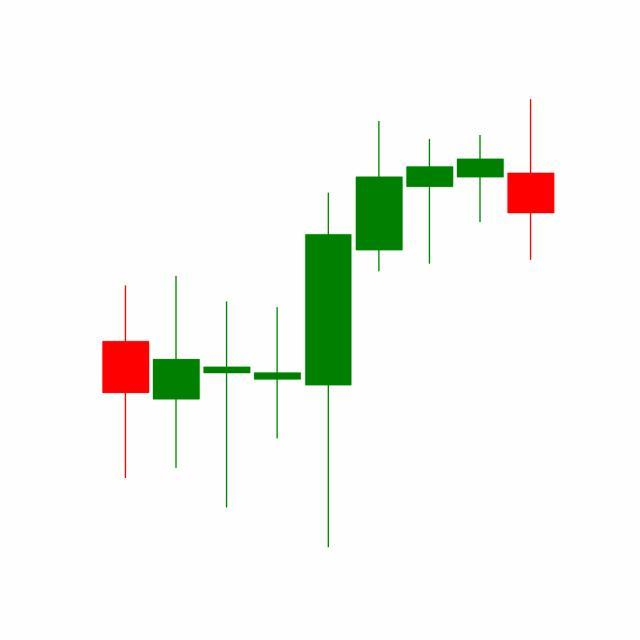Hikkake Pattern: (252, 116, 506, 548)
